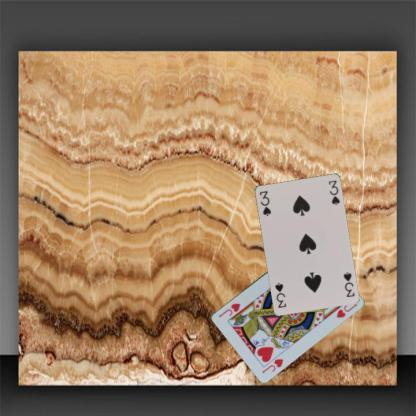3s: (340, 269, 356, 298), (257, 188, 272, 217)
Jh: (260, 356, 284, 374)
